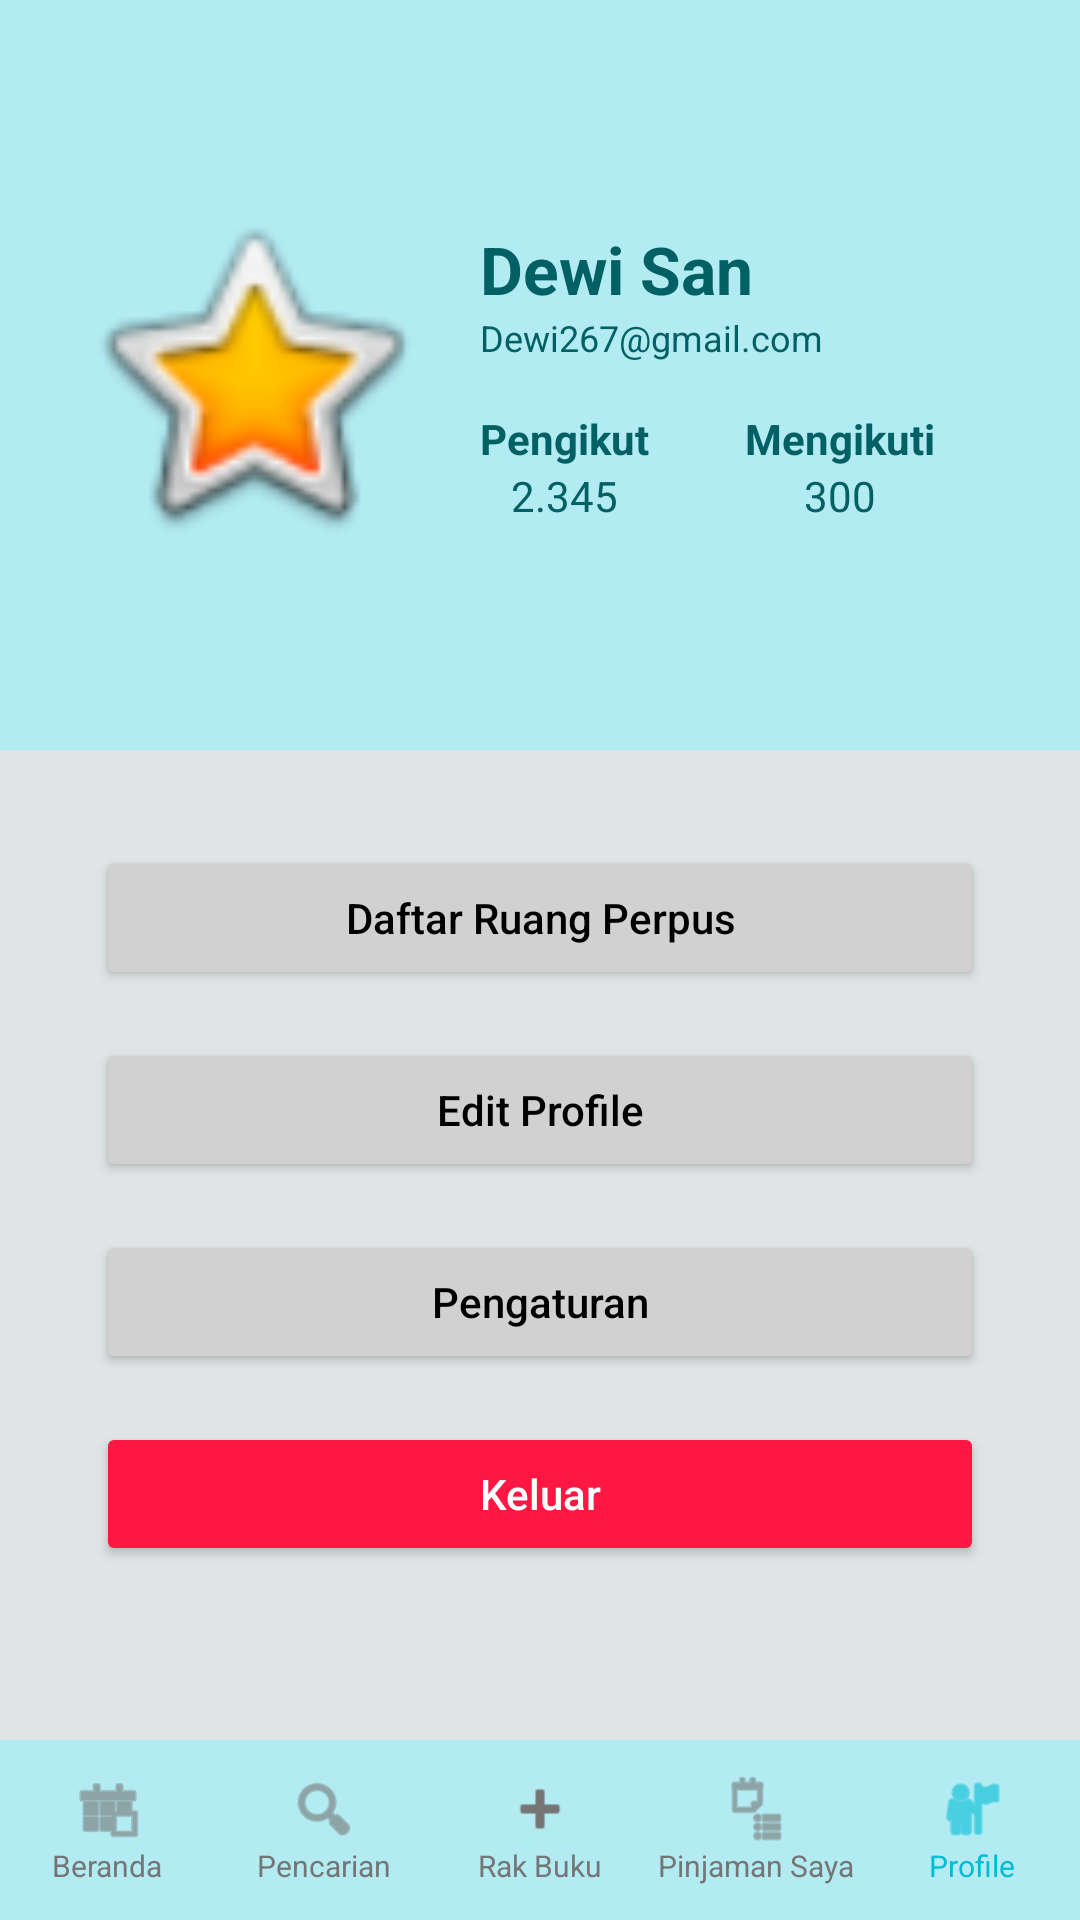

Icons on this 1080px x 1920px Android screen, each with the point to tap as [x,y]:
add: [540,1809]
agenda: [756,1808]
myplaces: [973,1809]
star on: [255,377]
today: [108,1810]
